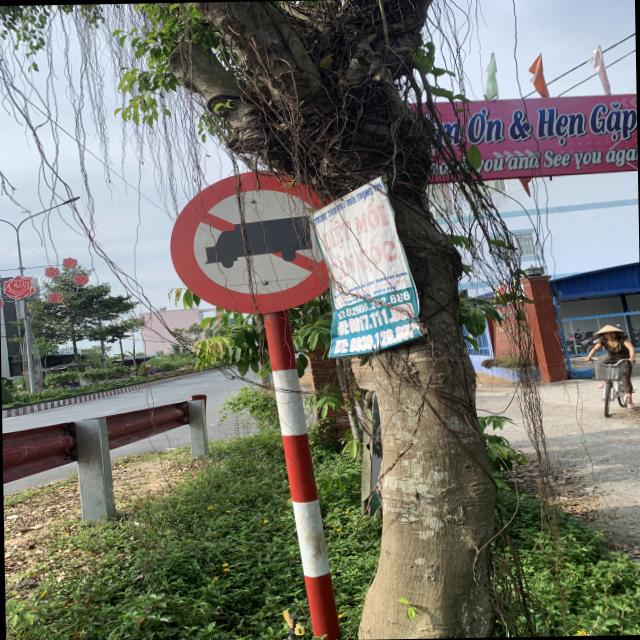Cam_Xe_Tai: (164, 168, 354, 314)
